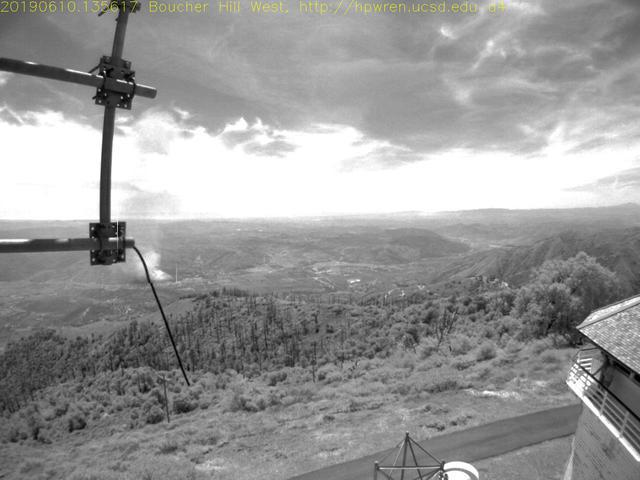smoke: (119, 180, 179, 285)
